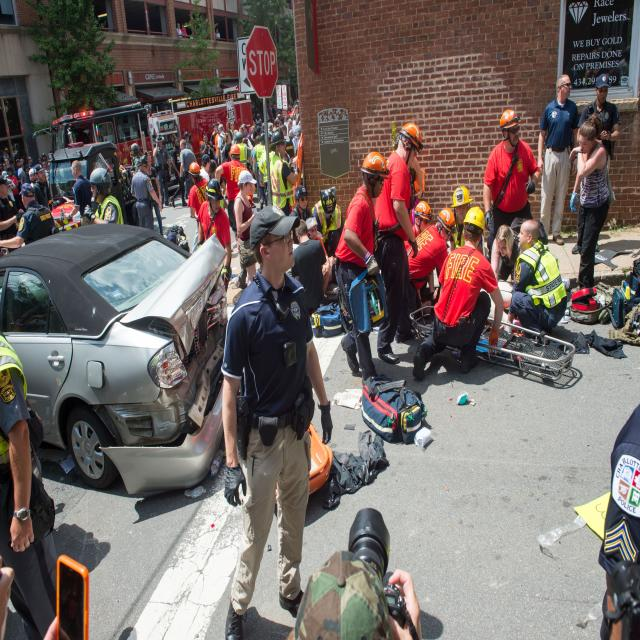body: (0, 389, 638, 639), (220, 203, 336, 640), (0, 101, 307, 266), (0, 330, 65, 639), (412, 201, 506, 383), (333, 148, 396, 389), (371, 121, 425, 366), (482, 108, 541, 265), (571, 72, 620, 255), (501, 217, 569, 348), (569, 111, 616, 295), (535, 71, 582, 246), (428, 276, 550, 341), (541, 222, 640, 266), (406, 206, 457, 290), (490, 217, 548, 289), (196, 178, 232, 294), (215, 143, 256, 243), (0, 183, 55, 249), (232, 170, 258, 286), (268, 128, 300, 217), (298, 217, 330, 296), (448, 186, 484, 256), (83, 166, 125, 225), (311, 185, 344, 259), (130, 155, 162, 231), (187, 161, 209, 254), (0, 175, 25, 253), (64, 160, 93, 227), (32, 163, 58, 228), (145, 153, 164, 237), (152, 134, 173, 210), (403, 200, 434, 250), (169, 134, 188, 207), (289, 185, 311, 245), (179, 139, 197, 195), (232, 131, 253, 176), (220, 133, 232, 199), (183, 131, 194, 200), (200, 132, 214, 162), (199, 154, 213, 182), (180, 23, 188, 38), (176, 22, 183, 38), (215, 28, 220, 40)
